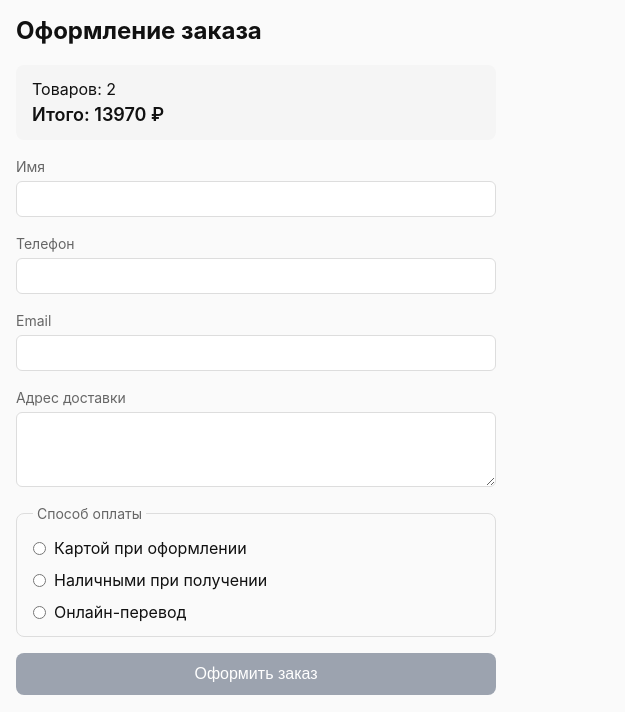
Test: CheckoutPage › после успешного submit переключается на подтверждение со снапшотом
The image size is (625, 712).
Type "Иван" into the field labelled "Имя" at (256, 199), box [16,181,496,217]
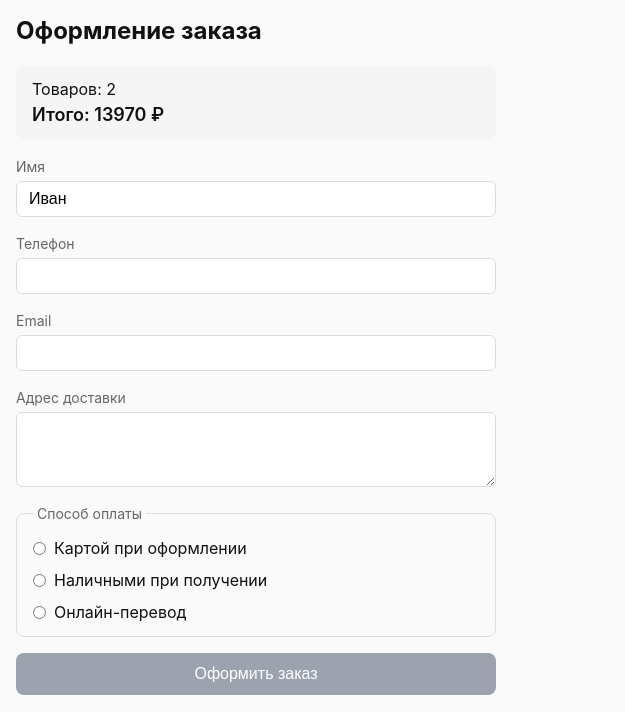
Type "+79001234567" into the field labelled "Телефон" at (256, 276), box [16,258,496,294]
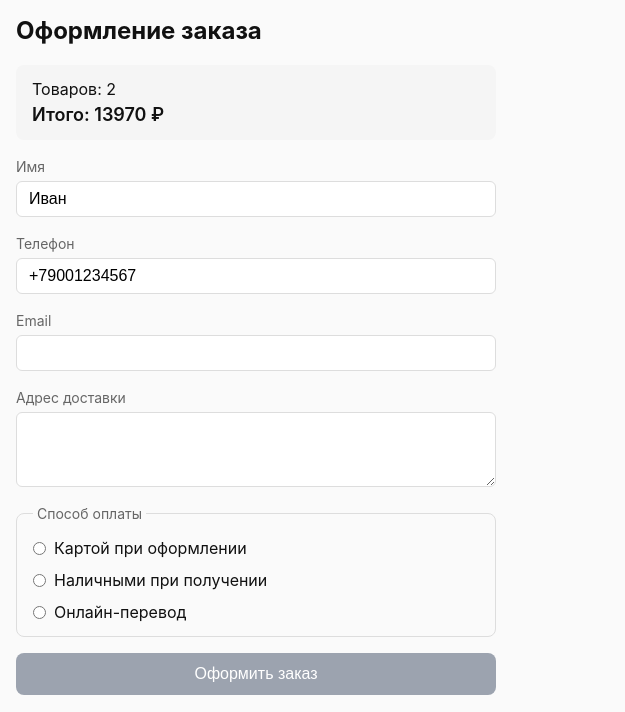
Type "ivan@example.com" into the field labelled "Email" at (256, 353), box [16,335,496,371]
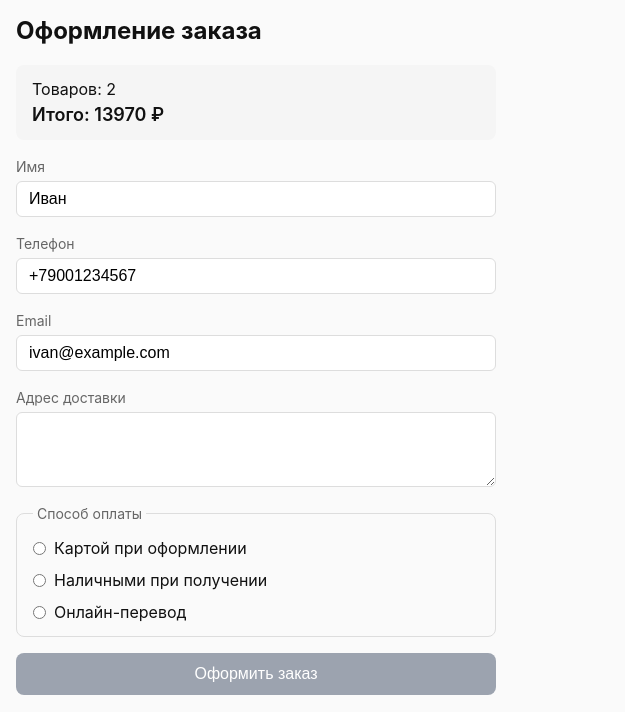
Type "ул. Пушкина, д. 10" into the text box labelled "Адрес доставки" at (256, 450), box [16,412,496,487]
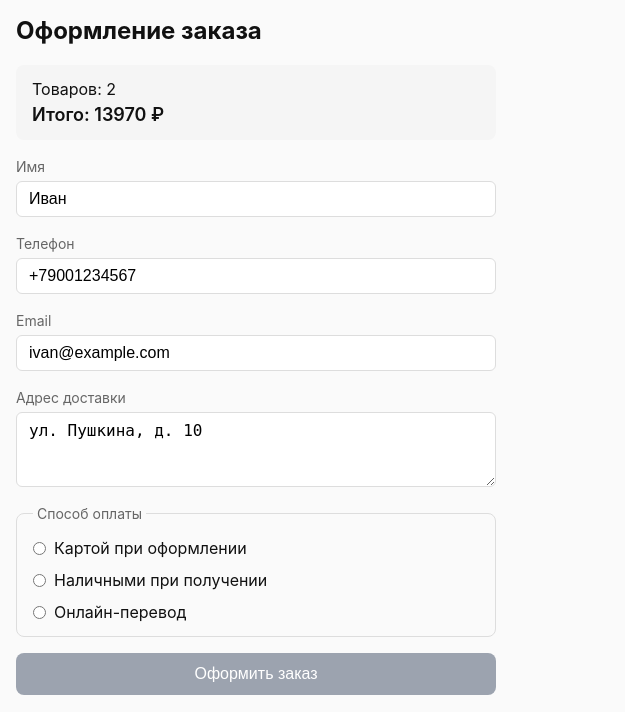
Click the radio button labelled "Картой при оформлении" at (40, 548), box [33,542,46,554]
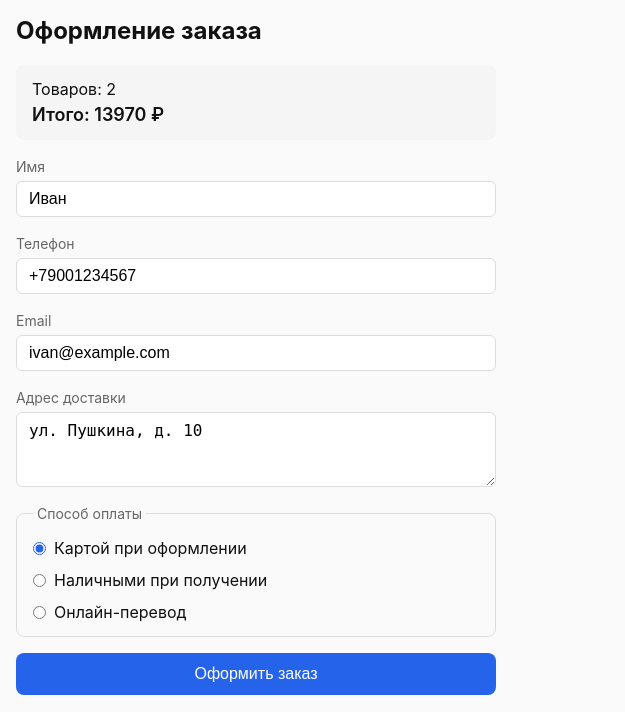
Click the button "Оформить заказ" at (256, 674), box [16,653,496,695]
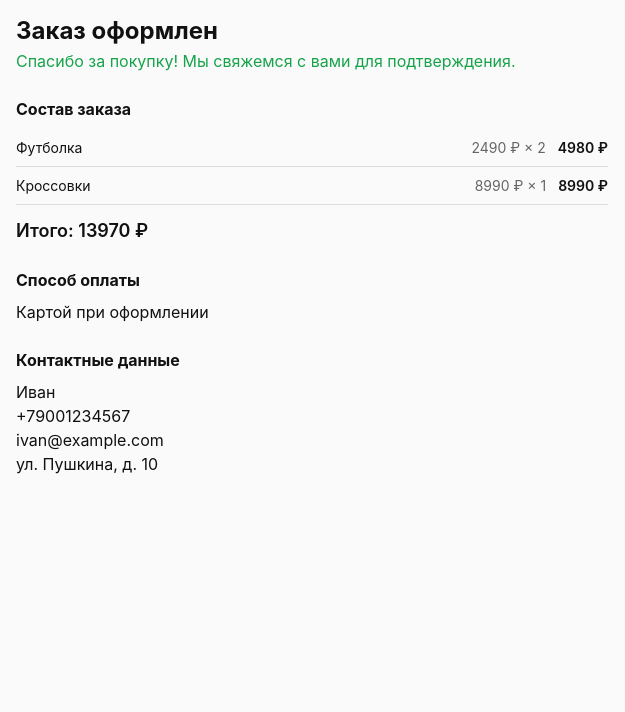
Result: the heading "Заказ оформлен" is shown at [16,16,218,45]
Result: the text "Футболка" is shown at [16,139,82,156]
Result: the text "Кроссовки" is shown at [16,177,90,194]
